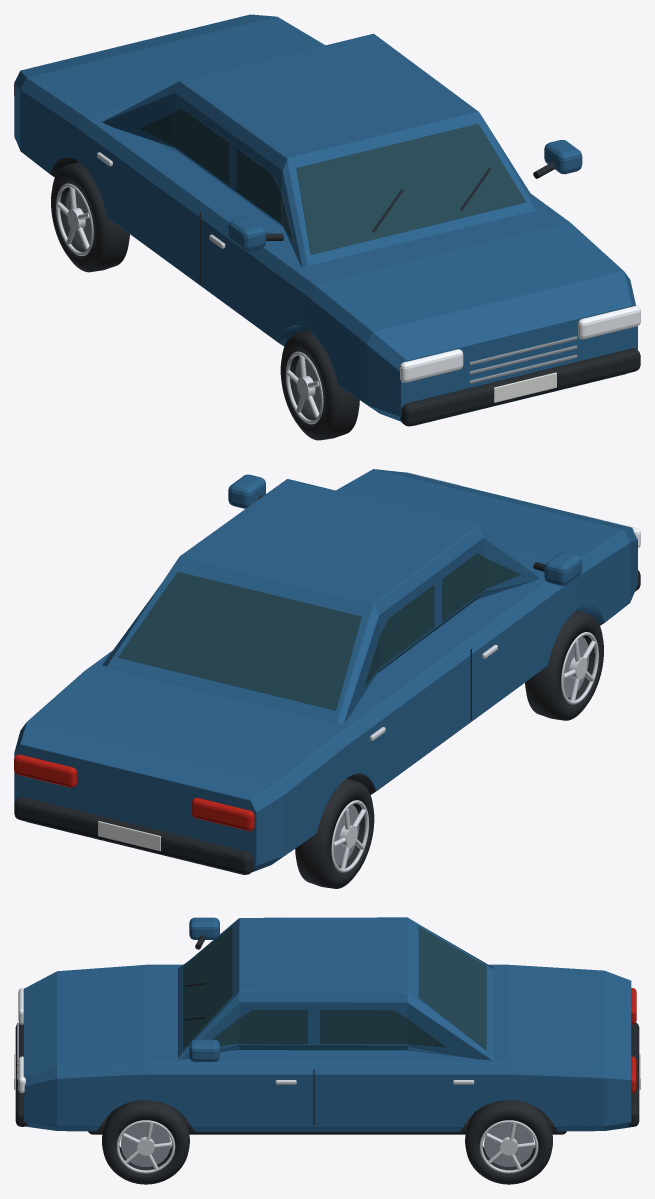
Rendered from sedan.glb.
The picture shows the model from 3 angles, top to bottom: view 1: azimuth 30°, elevation 25°; view 2: azimuth 150°, elevation 25°; view 3: azimuth 270°, elevation 25°; orthographic projection. The views are drawn at different scales.
Parts seen in each view (by area): view 1: Coachwork lower body, Cab and roof, Front windscreen, Bumper, Front_tire, Rear_tire, Rear side glass, Front side glass.001, Headlamp, Headlamp.001, Mirror shell, Blank registration panel (+3 smaller); view 2: Coachwork lower body, Cab and roof, Rear windscreen, Bumper.001, Rear_tire, Front_tire, Rear side glass, Front side glass.001, Tail lamp, Tail lamp.001, Mirror shell, Blank registration panel.001 (+4 smaller); view 3: Coachwork lower body, Cab and roof, Rear windscreen, Front_tire.001, Rear_tire.001, Front windscreen, Rear side glass.002, Front side glass.003, Rear_brake.001, Front_brake.001, Underbody, Bumper.001 (+7 smaller).
Part boxes in pixels (x1,y1,x2,y2): Coachwork lower body: (14, 14, 637, 425); Cab and roof: (102, 33, 540, 267); Front windscreen: (296, 123, 525, 254); Bumper: (400, 348, 640, 426); Front_tire: (280, 330, 359, 440); Rear_tire: (51, 161, 129, 272); Rear side glass: (173, 108, 229, 185); Front side glass.001: (236, 148, 281, 222); Headlamp: (400, 349, 463, 382); Headlamp.001: (578, 306, 640, 339); Mirror shell: (228, 217, 265, 251); Blank registration panel: (494, 372, 556, 402); Coachwork lower body: (14, 469, 637, 874); Cab and roof: (102, 479, 540, 723); Rear windscreen: (118, 571, 361, 710); Bumper.001: (14, 797, 253, 874); Rear_tire: (295, 778, 374, 888); Front_tire: (525, 610, 603, 720); Rear side glass: (380, 584, 434, 667); Front side glass.001: (442, 553, 485, 621); Tail lamp: (191, 798, 254, 831); Tail lamp.001: (14, 754, 76, 787); Mirror shell: (544, 551, 582, 585); Blank registration panel.001: (98, 821, 160, 851); Coachwork lower body: (23, 964, 631, 1131); Cab and roof: (178, 917, 494, 1060); Rear windscreen: (418, 926, 486, 1049); Front_tire.001: (102, 1100, 189, 1184); Rear_tire.001: (465, 1100, 552, 1184); Front windscreen: (183, 925, 232, 1049); Rear side glass.002: (320, 1010, 407, 1043); Front side glass.003: (239, 1009, 307, 1043); Rear_brake.001: (484, 1123, 533, 1166); Front_brake.001: (120, 1123, 170, 1166); Underbody: (88, 1111, 566, 1134); Bumper.001: (628, 1022, 639, 1126).
Size of the model in its own units: 2.32 by 1.48 by 4.7.
